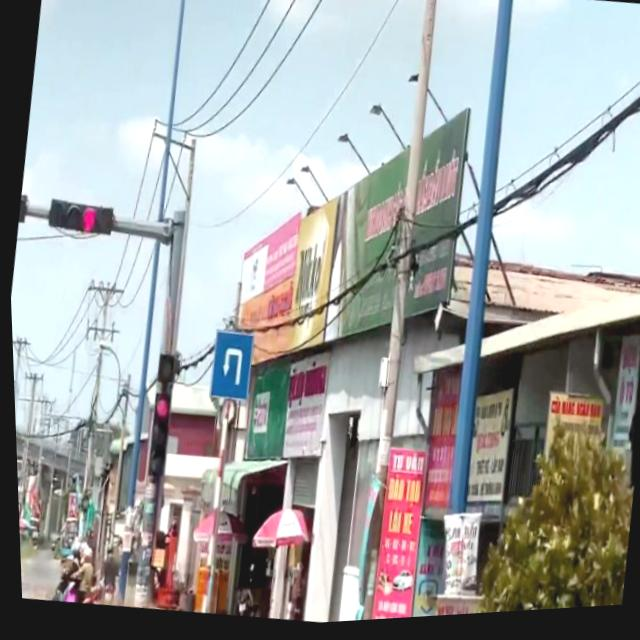Cho quay xe: (203, 328, 255, 407)
